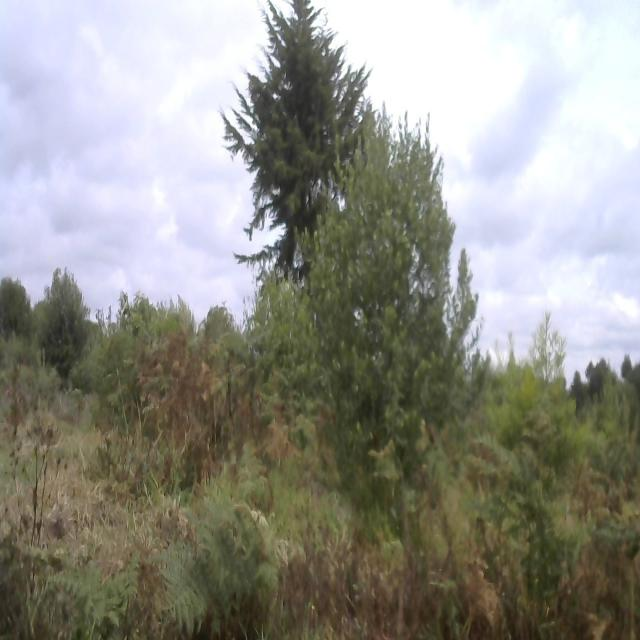Juniperus procesera: (236, 0, 371, 231)
Olea europea -africana-: (294, 117, 480, 553)
Podocarpus falcatus: (506, 315, 587, 499)
